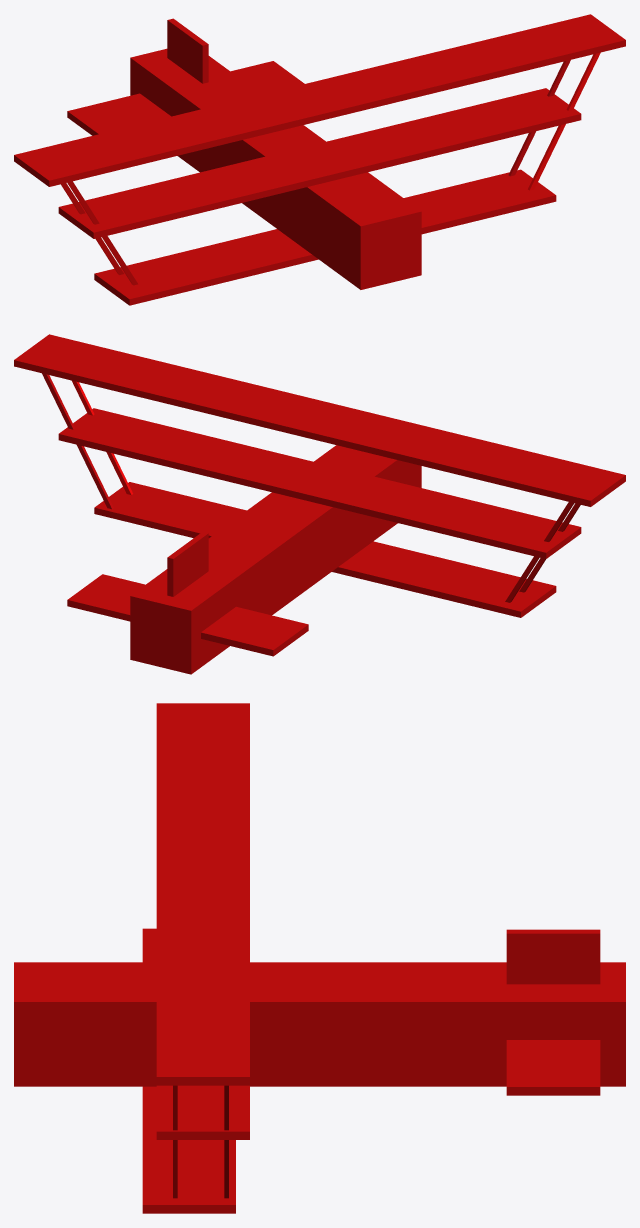
3 views of the same model, one above another, from view 1: azimuth 30°, elevation 25°; view 2: azimuth 150°, elevation 25°; view 3: azimuth 270°, elevation 25° (orthographic). The views are drawn at different scales.
Parts seen in each view (by area): view 1: Cube.002_Cube.001, Cube_Cube.002, Cube.002_Cube.004, Cube.001_Cube.003, Cube.003_Cube.005, Cube.004_Cube.006, Cube_Cube.001, Cube.002_Cube.003, Cube.001_Cube.002, Cube.003_Cube.004; view 2: Cube.002_Cube.001, Cube_Cube.002, Cube.002_Cube.004, Cube.001_Cube.003, Cube.003_Cube.005, Cube.004_Cube.006, Cube.001_Cube.002, Cube.003_Cube.004, Cube_Cube.001; view 3: Cube_Cube.002, Cube.002_Cube.001, Cube.001_Cube.003, Cube.003_Cube.005, Cube.004_Cube.006, Cube.002_Cube.004.
Part boxes in pixels (bbox=[...]): Cube.002_Cube.001: bbox=[14, 14, 625, 186]; Cube_Cube.002: bbox=[130, 48, 421, 289]; Cube.002_Cube.004: bbox=[58, 88, 581, 238]; Cube.001_Cube.003: bbox=[94, 169, 556, 305]; Cube.003_Cube.005: bbox=[67, 61, 304, 135]; Cube.004_Cube.006: bbox=[167, 18, 208, 83]; Cube_Cube.001: bbox=[528, 52, 600, 190]; Cube.002_Cube.003: bbox=[67, 181, 137, 285]; Cube.001_Cube.002: bbox=[508, 60, 570, 176]; Cube.003_Cube.004: bbox=[61, 183, 123, 274]; Cube.002_Cube.001: bbox=[14, 334, 625, 506]; Cube_Cube.002: bbox=[130, 445, 421, 674]; Cube.002_Cube.004: bbox=[58, 408, 581, 558]; Cube.001_Cube.003: bbox=[94, 482, 556, 617]; Cube.003_Cube.005: bbox=[67, 574, 308, 656]; Cube.004_Cube.006: bbox=[167, 532, 208, 596]; Cube.001_Cube.002: bbox=[42, 373, 113, 509]; Cube.003_Cube.004: bbox=[505, 502, 574, 602]; Cube_Cube.001: bbox=[72, 380, 132, 494]; Cube_Cube.002: bbox=[14, 962, 625, 1086]; Cube.002_Cube.001: bbox=[156, 703, 249, 1085]; Cube.001_Cube.003: bbox=[142, 928, 235, 1213]; Cube.003_Cube.005: bbox=[506, 1040, 600, 1095]; Cube.004_Cube.006: bbox=[506, 929, 600, 984]; Cube.002_Cube.004: bbox=[156, 1085, 249, 1139].
Size of the model in its own units: 18.93 by 4.37 by 13.1.
